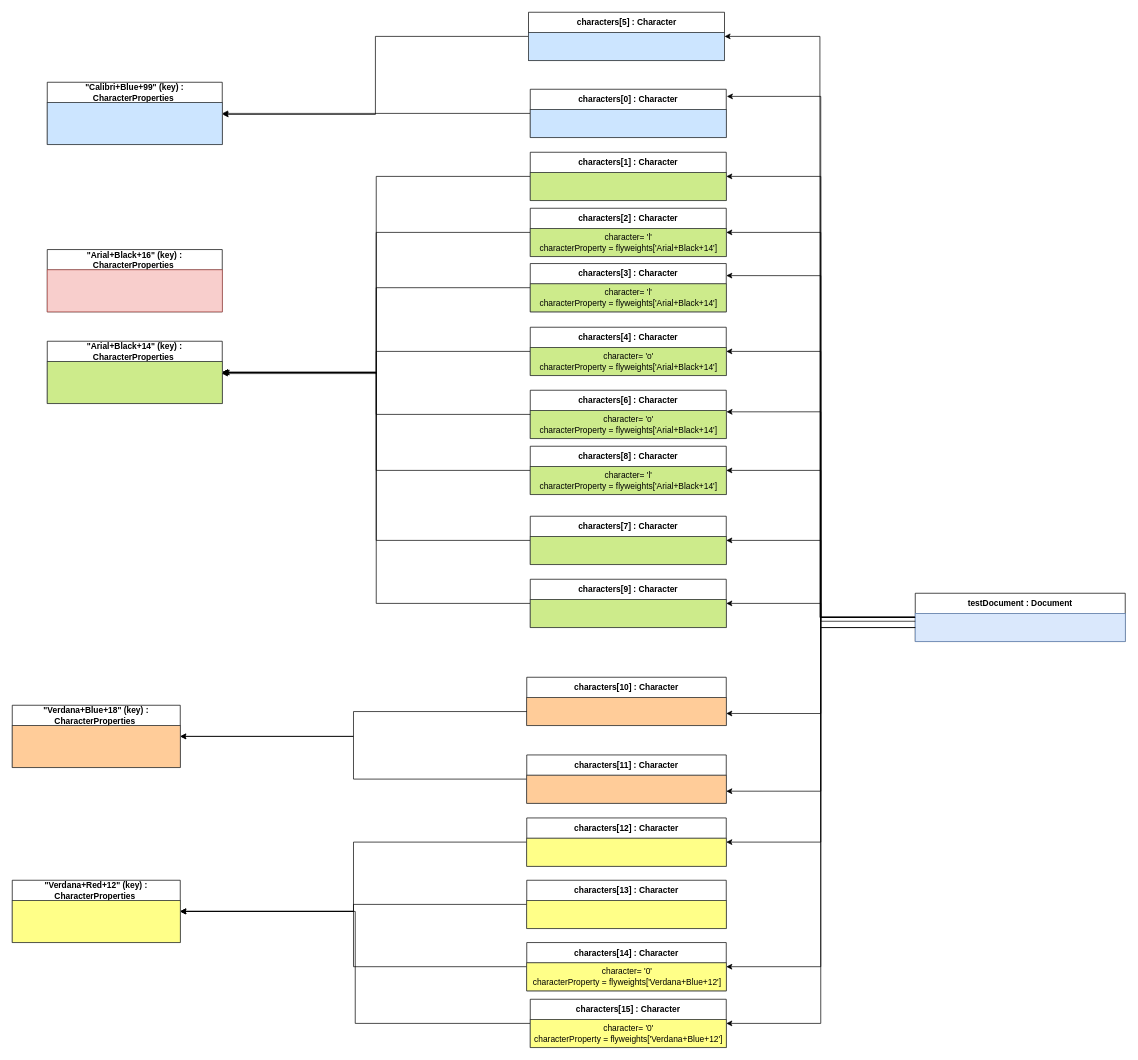
Some shapes in this 1138 by 1060 pixel diagram are drawn without their labels. The shapes that lost their labels are listed below. From the top down, each one's centre as x and y in pixels, then its label:
(x=626, y=46): character= 'W' characterProperty = flyweights['Calibri+Blue+99']
(x=134, y=123): font = "Calibri" color= "Blue" size = 99
(x=628, y=123): character= 'H' characterProperty = flyweights['Calibri+Blue+99']
(x=628, y=186): character= 'e' characterProperty = flyweights['Arial+Black+14']
(x=134, y=290): font = "Arial" color= "Black" size = 16
(x=134, y=382): font = "Arial" color= "Black" size = 14
(x=628, y=550): character= 'r' characterProperty = flyweights['Arial+Black+14']
(x=628, y=613): character= 'd' characterProperty = flyweights['Arial+Black+14']
(x=1020, y=627): characters= [H,e,ll...] propertiesFactory= new CharacterPropertiesFactory()
(x=626, y=711): character= 'C' characterProperty = flyweights['Verdana+Blue+18']
(x=96, y=746): font = "Verdana" color= "Blue" size = 18
(x=626, y=789): character= 'S' characterProperty = flyweights['Verdana+Blue+18']
(x=626, y=852): character= '5' characterProperty = flyweights['Verdana+Blue+12']
(x=96, y=921): font = "Verdana" color= "Red" size = 12
(x=626, y=914): character= '8' characterProperty = flyweights['Verdana+Blue+12']
